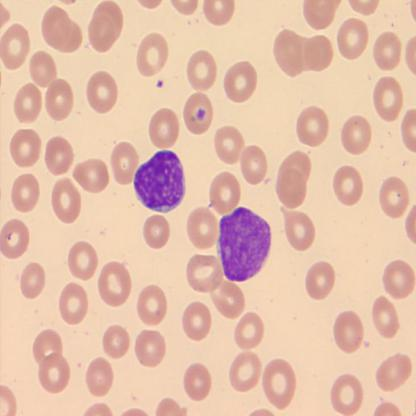Blast: (218, 204, 272, 280), (133, 152, 186, 213)
